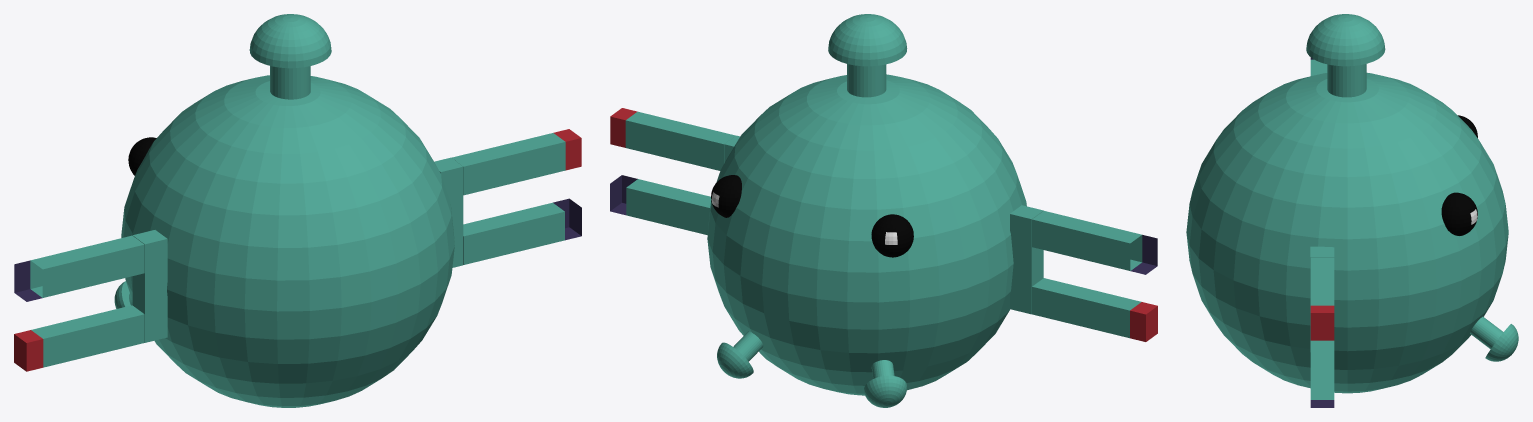
The model's file is Pokemon_Play_Magnemite.glb.
The picture shows the model from 3 angles, left to right: view 1: azimuth 30°, elevation 25°; view 2: azimuth 150°, elevation 25°; view 3: azimuth 270°, elevation 25°; orthographic projection. The views are drawn at different scales.
Parts seen in each view (by area): view 1: Pokemon_Play_Magnemite; view 2: Pokemon_Play_Magnemite; view 3: Pokemon_Play_Magnemite.
Boxes of the visible parts, left/top/right/bottom form: Pokemon_Play_Magnemite: left=14, top=14, right=581, bottom=407; Pokemon_Play_Magnemite: left=610, top=14, right=1157, bottom=407; Pokemon_Play_Magnemite: left=1186, top=14, right=1518, bottom=407.
Bounding box in the file's own units: 8.69 × 5.61 × 4.67.
